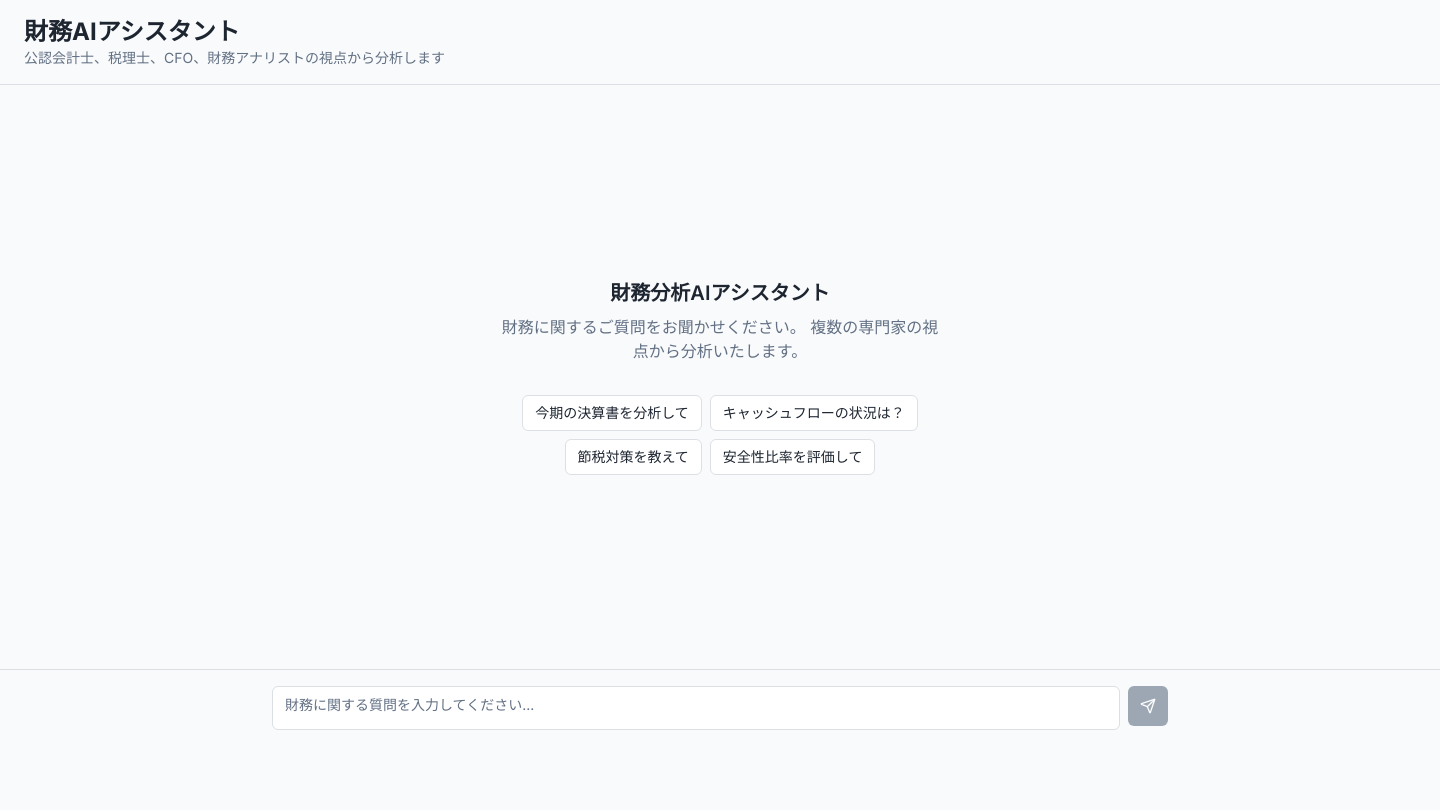
Test: ChatPage › should display timeout error on abort
Type "テスト" into the text box at [696, 708], box [272,686,1120,730]
Then press Enter
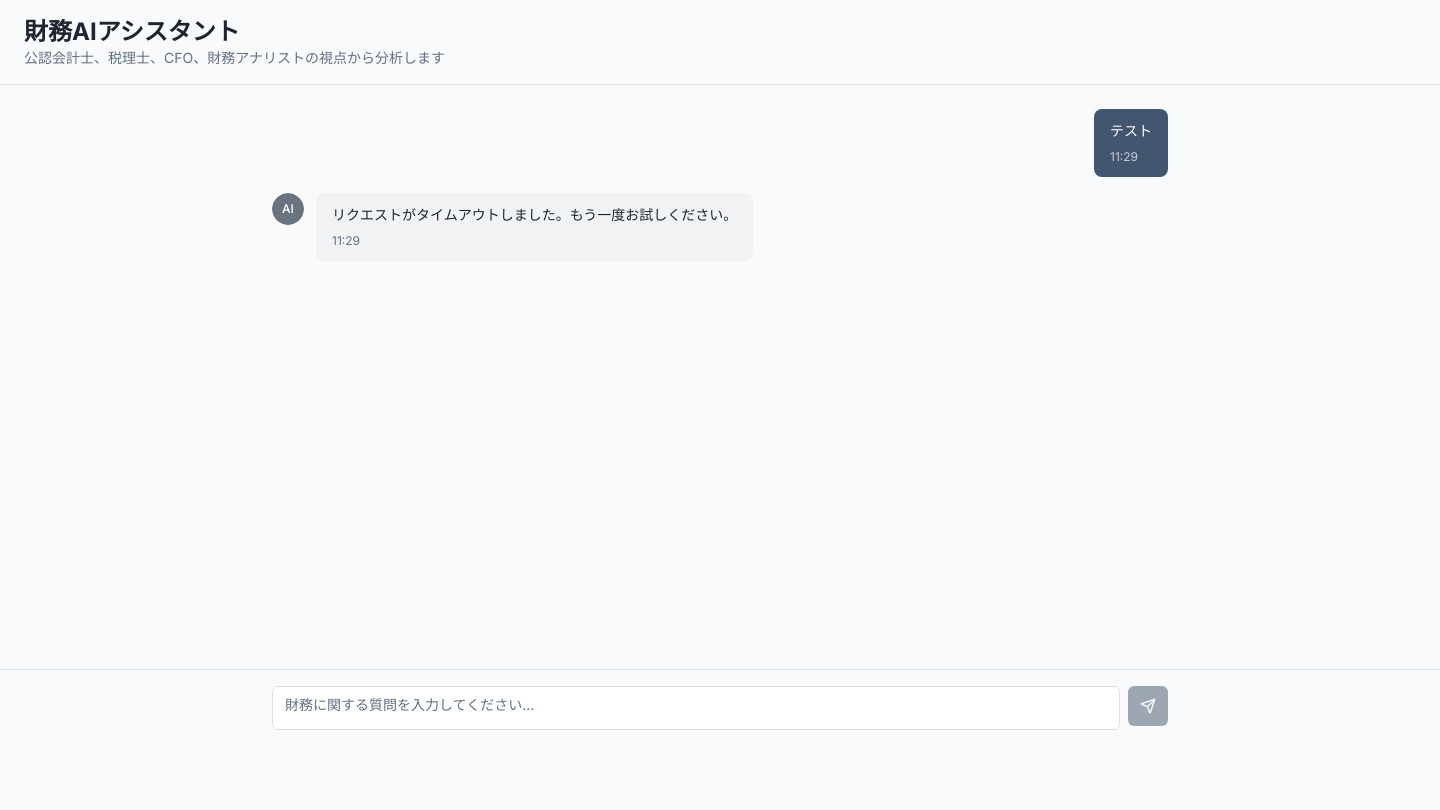
Check: the text "リクエストがタイムアウトしました。もう一度お試しください。" is shown, box [332,205,737,225]
